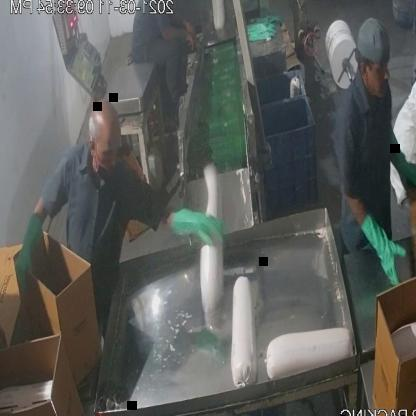glove: (355, 212, 411, 295), (11, 210, 46, 299), (382, 126, 416, 207), (173, 204, 226, 254)
no_glove: (152, 16, 198, 57)
